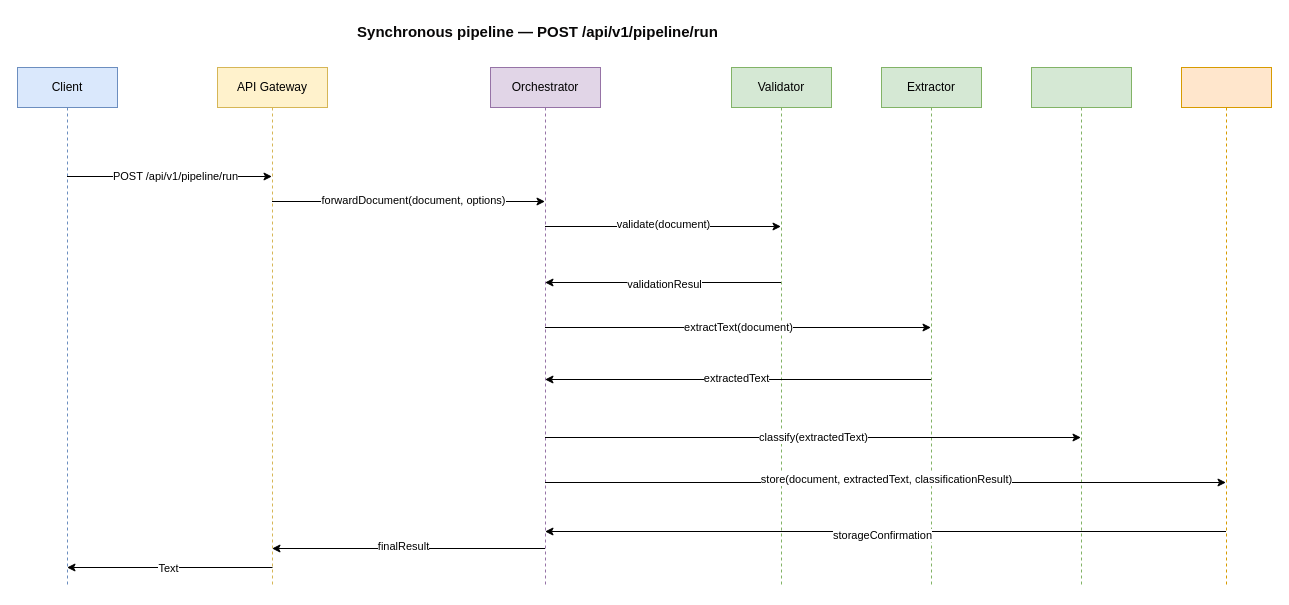
Some shapes in this 1289 by 605 pixel diagram are drawn without their labels. The box of each missing label's shape, as (x1, y1, x2, y2) in pixels:
Classifier: (1030, 66, 1132, 588)
Storage: (1180, 66, 1272, 588)
